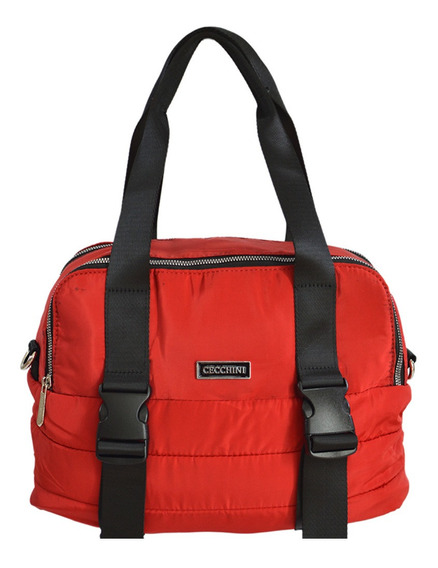cartera: (21, 25, 414, 541)
